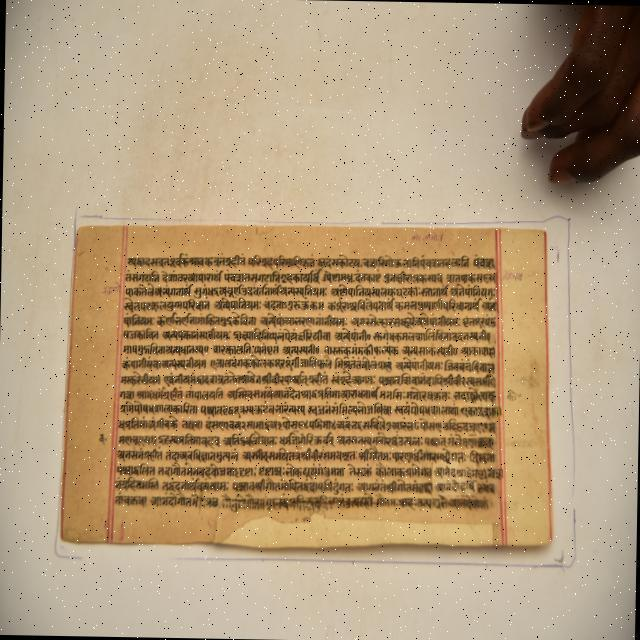text_paragraph: (61, 225, 549, 546)
